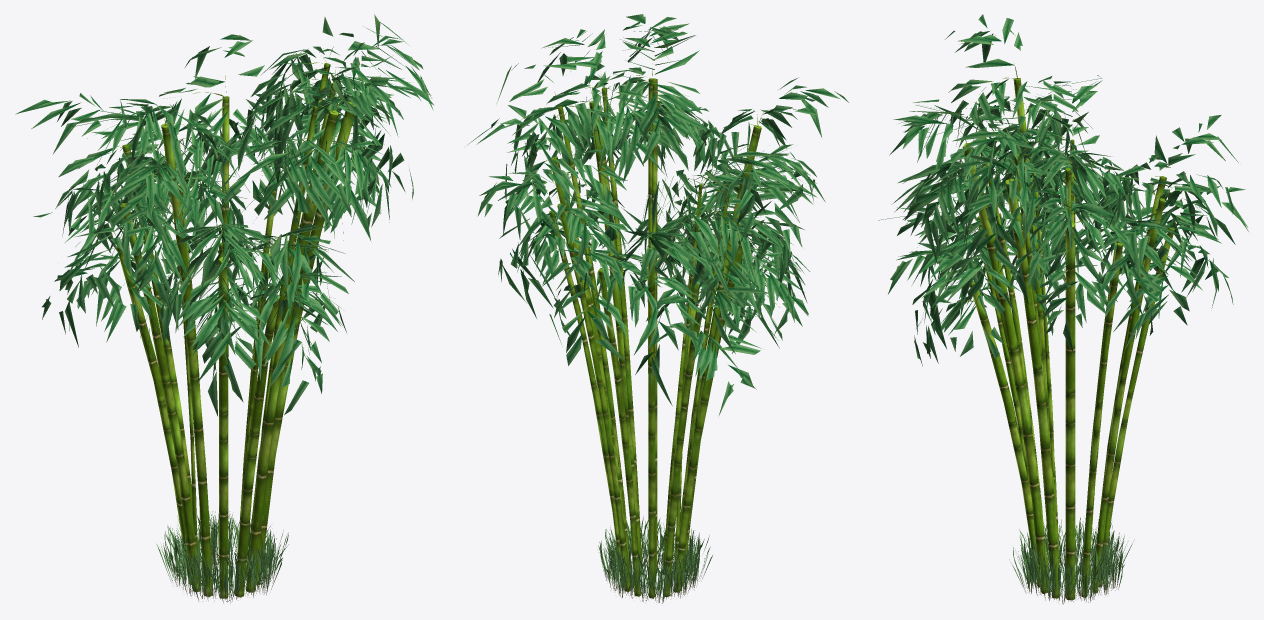
The model's file is tre.glb.
The picture shows the model from 3 angles, left to right: view 1: azimuth 30°, elevation 25°; view 2: azimuth 150°, elevation 25°; view 3: azimuth 270°, elevation 25°; orthographic projection. The views are drawn at different scales.
Visible parts, largest first — view 1: bamboo_tree; view 2: bamboo_tree; view 3: bamboo_tree.
Part boxes in pixels (left/top/right/bottom): bamboo_tree: left=15, top=14, right=434, bottom=603; bamboo_tree: left=468, top=14, right=848, bottom=603; bamboo_tree: left=878, top=14, right=1248, bottom=604.
Bounding box in the file's own units: 0.666 × 0.9993 × 0.6613.
3 materials, 3 textured.
